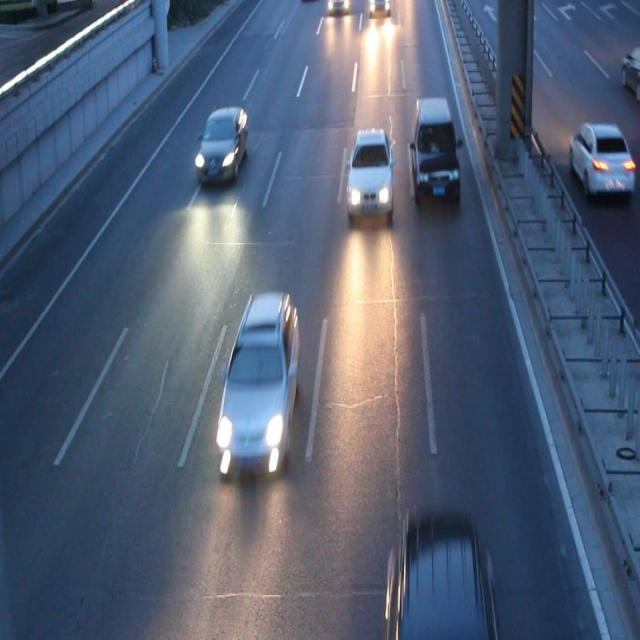car: (221, 291, 299, 460), (568, 122, 640, 191), (346, 131, 392, 212), (198, 106, 247, 176), (620, 43, 640, 93)
truck: (411, 99, 458, 194), (369, 1, 387, 13), (328, 1, 348, 11)
